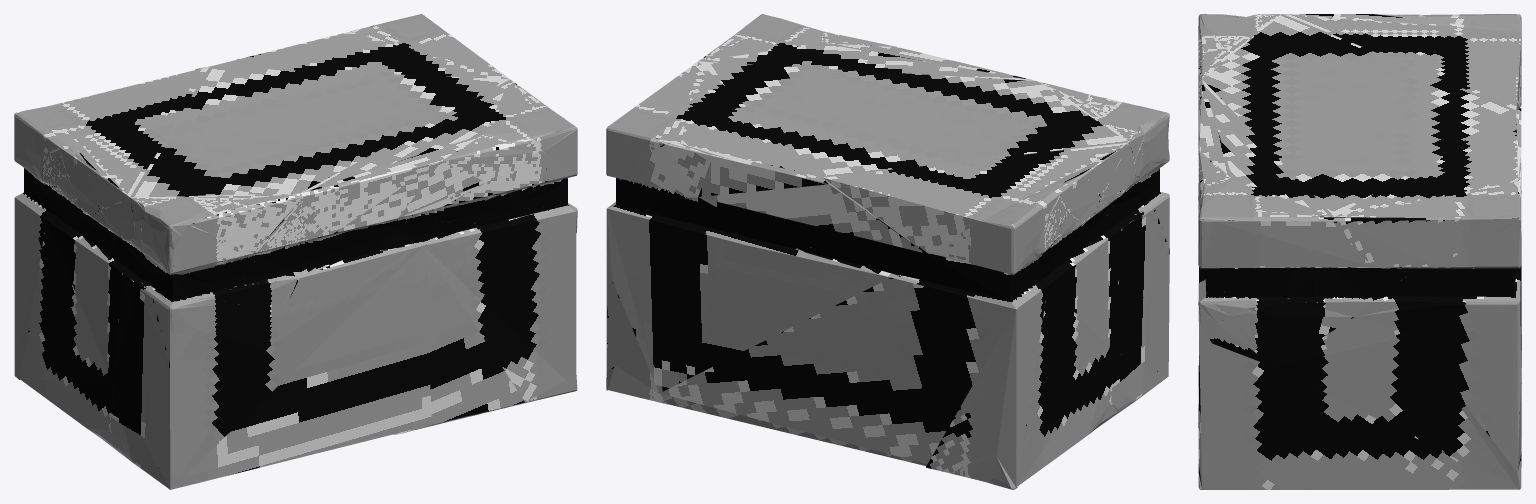
The picture shows the model from 3 angles, left to right: view 1: azimuth 30°, elevation 25°; view 2: azimuth 150°, elevation 25°; view 3: azimuth 270°, elevation 25°; orthographic projection. The views are drawn at different scales.
Parts seen in each view (by area): view 1: OBJ08a; view 2: OBJ08a; view 3: OBJ08a.
Boxes of the visible parts, x1,y1,x2,y2 form: OBJ08a: (14, 14, 577, 489); OBJ08a: (606, 14, 1169, 489); OBJ08a: (1198, 14, 1521, 489).
Size of the model in its own units: 0.3178 by 0.1964 by 0.2107.
Materials: 1 (1 with a texture image).
